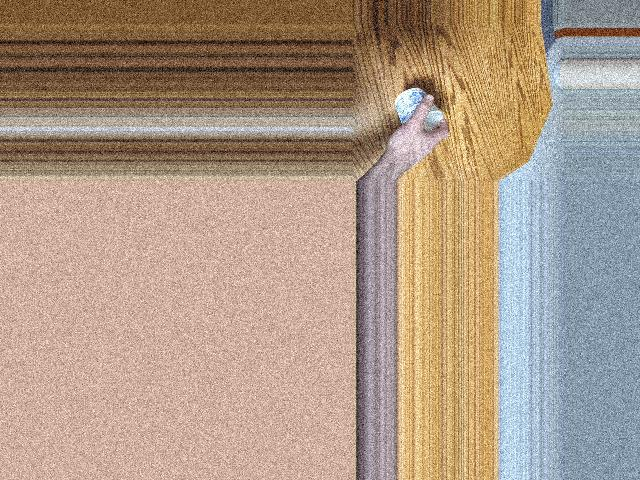cotage: (392, 89, 441, 134)
